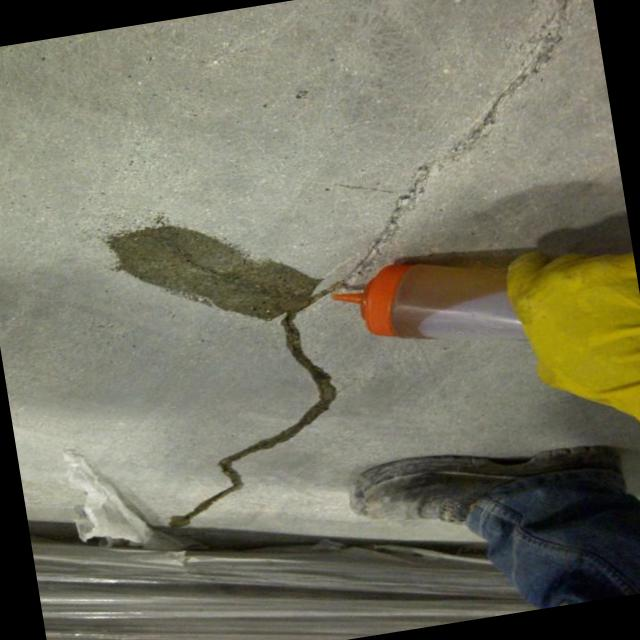crack: (167, 0, 580, 534)
